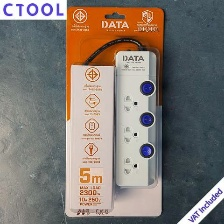book: (63, 5, 163, 221)
three_eye_plug: (112, 47, 161, 189)
